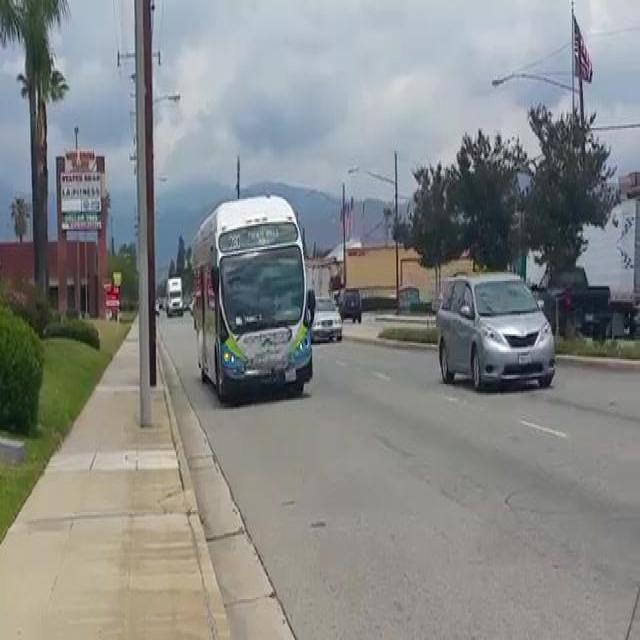motorcycle: (181, 192, 319, 391)
